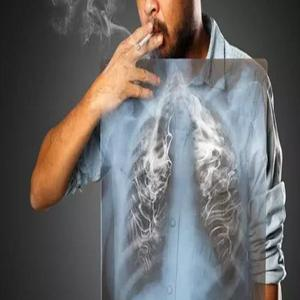cigarette: (136, 32, 154, 52)
